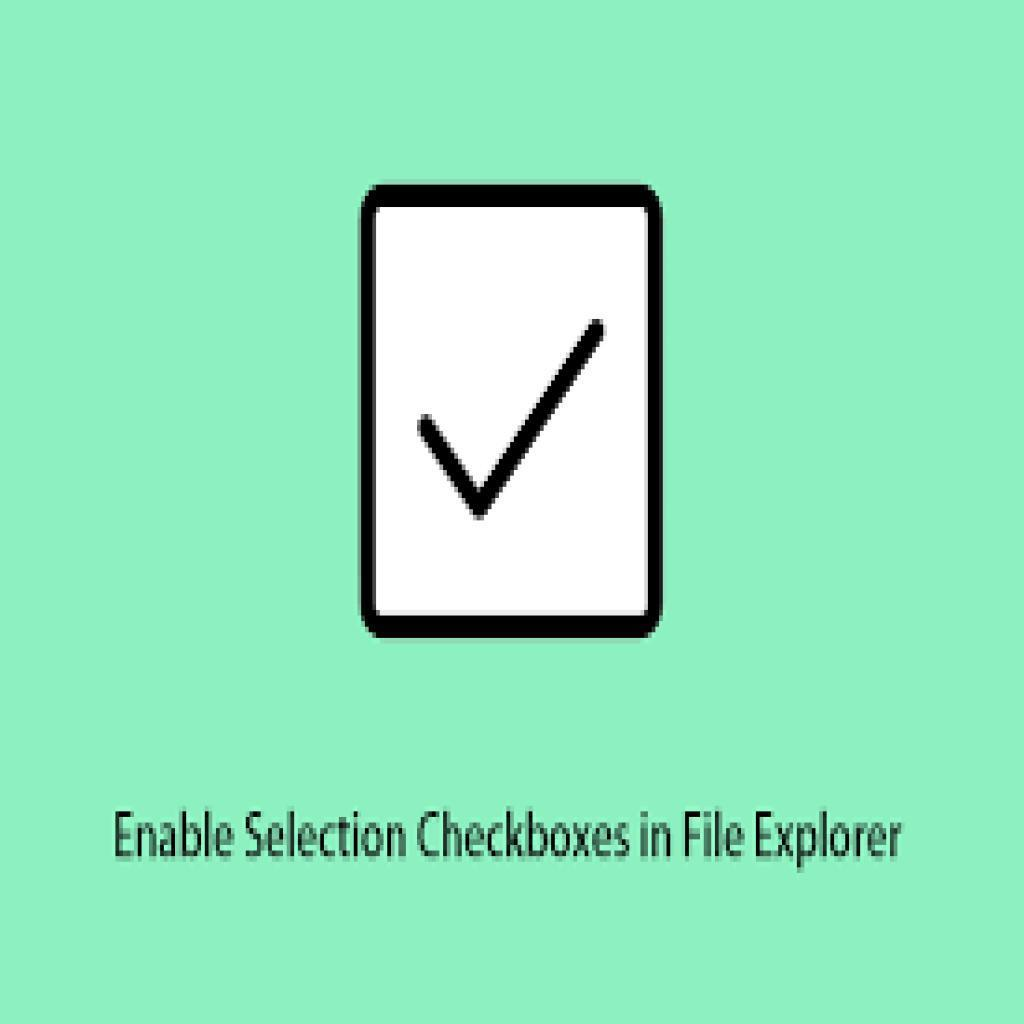checkbox: (357, 184, 662, 639)
